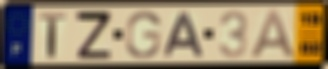3: (218, 10, 249, 59)
A: (249, 8, 300, 59), (162, 11, 207, 59)
G: (124, 10, 163, 60)
T: (38, 12, 68, 59)
Z: (73, 10, 113, 60)
